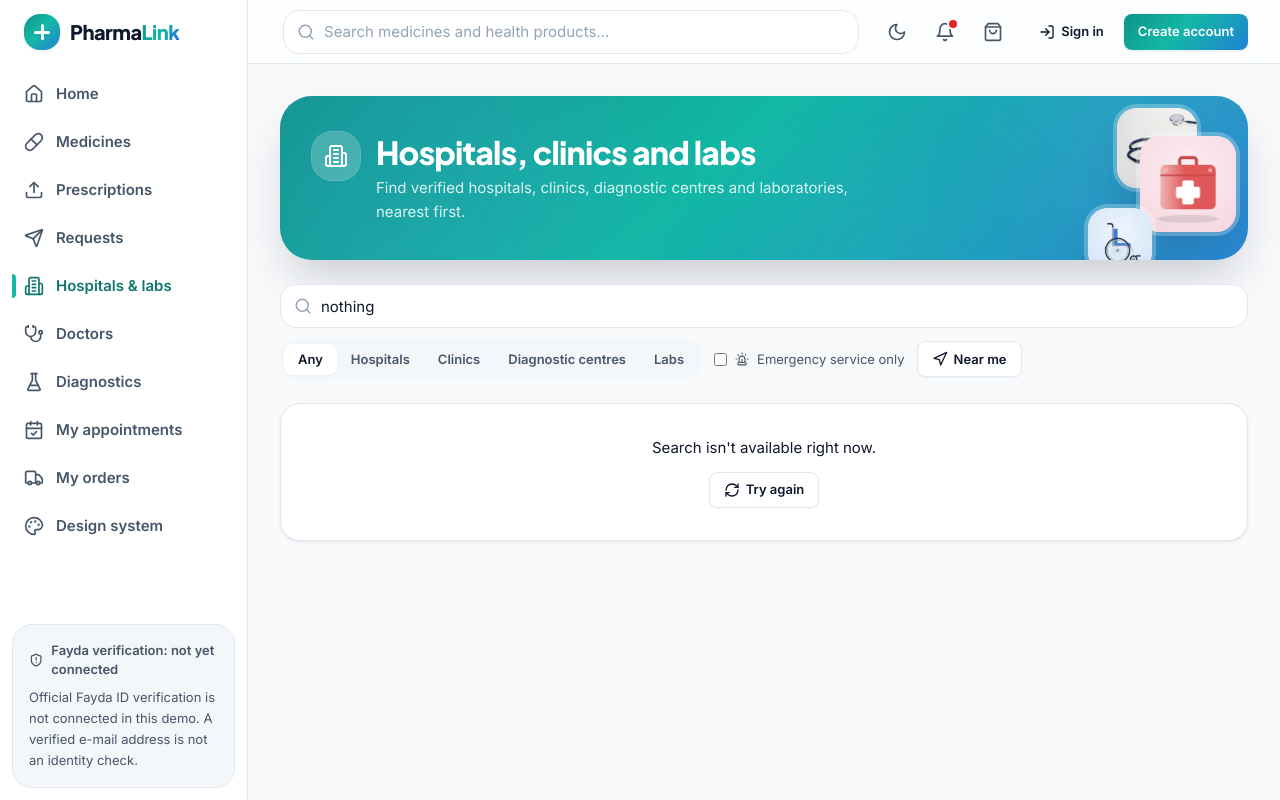
Test case: hospitals, clinics and labs (Work 165) › offers a retry when search fails, and an empty state
Click the button "Try again": (764, 490) [709,472,819,508]
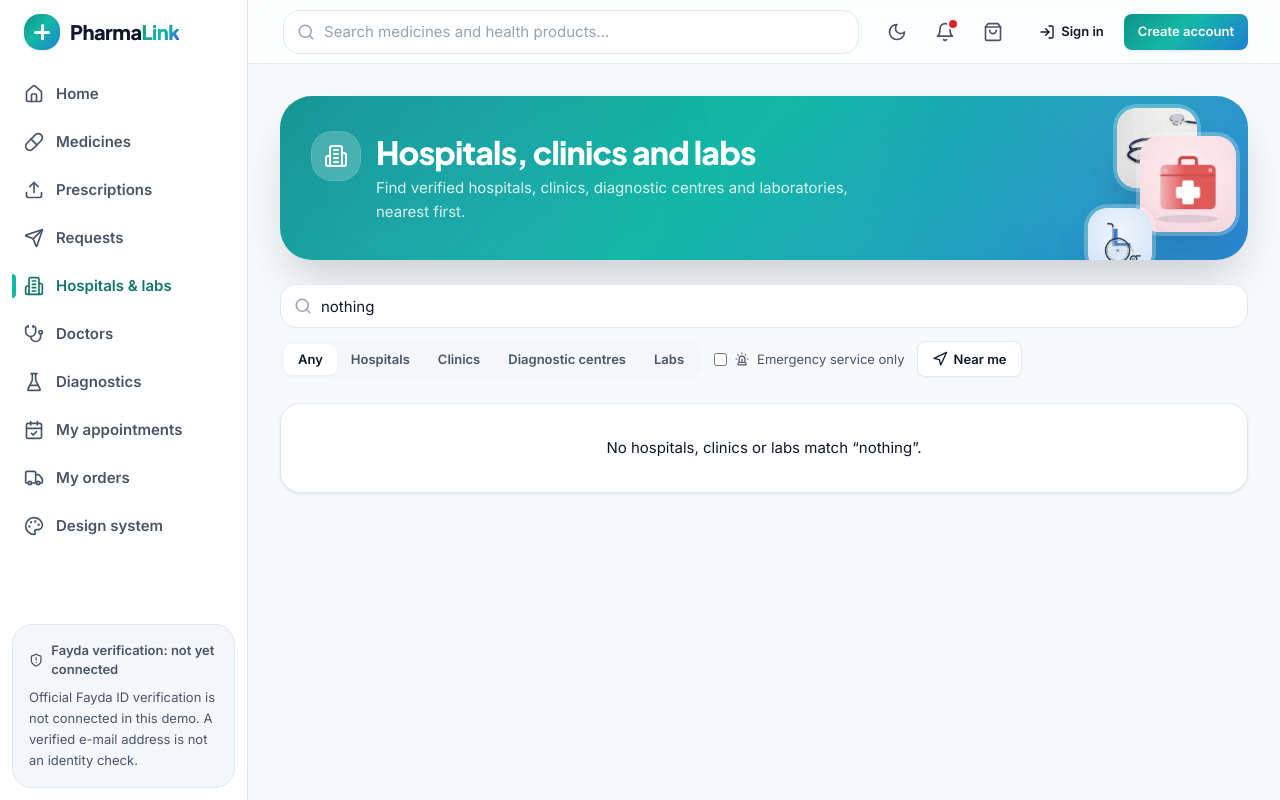
Now the text "No hospitals, clinics or labs match “nothing”." is shown, box [280,403,1248,493]
